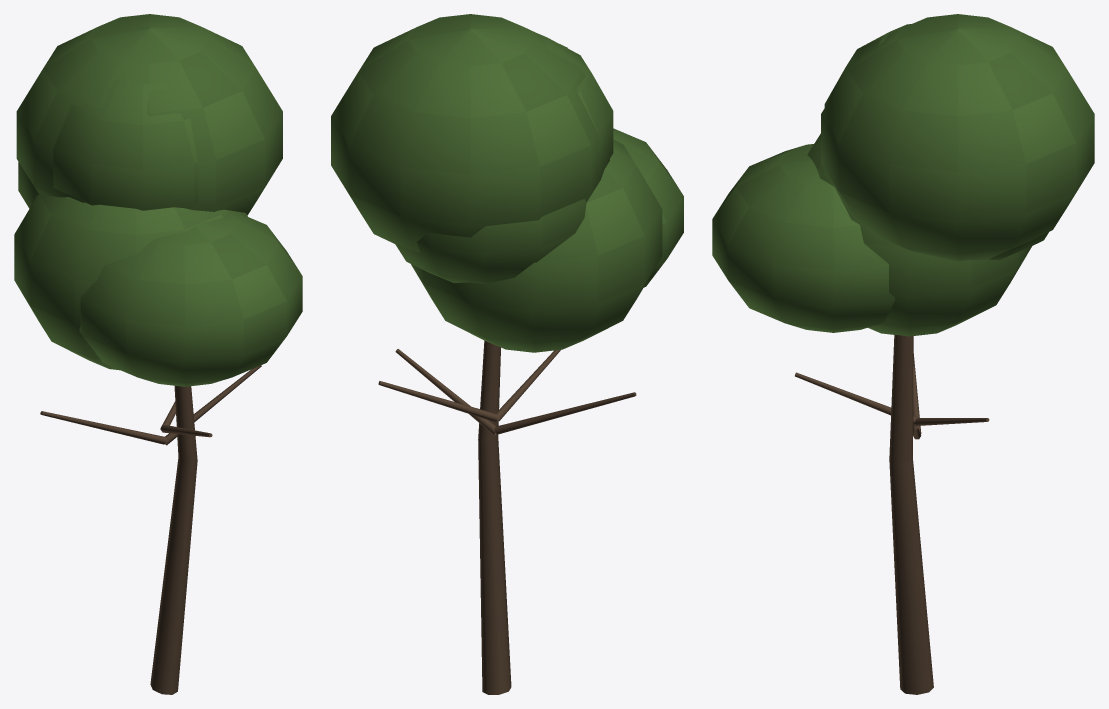
File: tree_b.glb
The picture shows the model from 3 angles, left to right: view 1: azimuth 30°, elevation 25°; view 2: azimuth 150°, elevation 25°; view 3: azimuth 270°, elevation 25°; orthographic projection. The views are drawn at different scales.
Parts seen in each view (by area): view 1: tree_b; view 2: tree_b; view 3: tree_b.
Part boxes in pixels (x1=…): tree_b: x1=14, y1=14, x2=302, y2=694; tree_b: x1=331, y1=14, x2=683, y2=694; tree_b: x1=712, y1=14, x2=1094, y2=694.
Bounding box in the file's own units: 3.63 × 8.66 × 4.53.
Materials: 2 (2 with a texture image).
